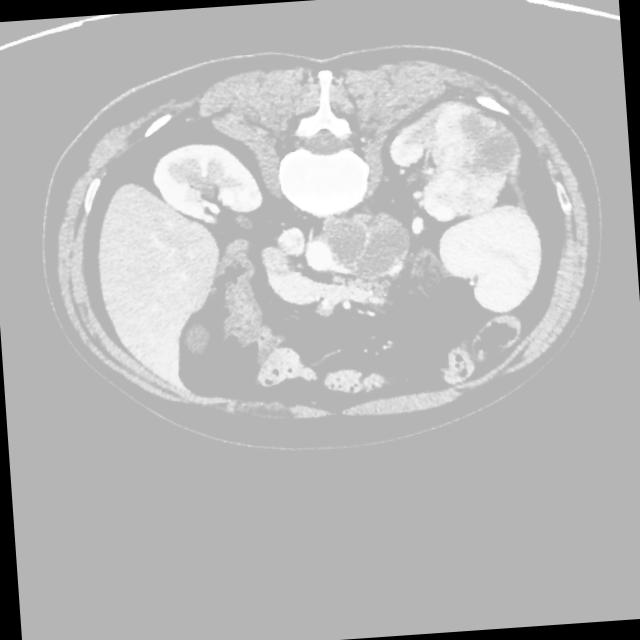TUMOR: (78, 108, 534, 422)
